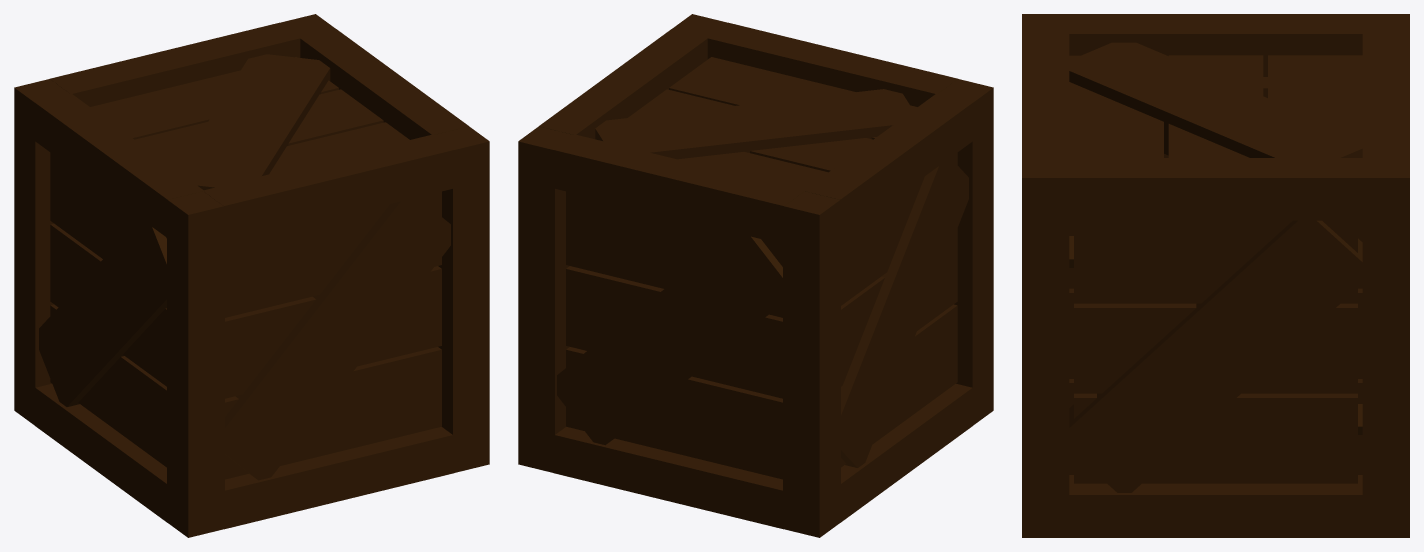
Rendered from wood_box.FBX.
The picture shows the model from 3 angles, left to right: view 1: azimuth 30°, elevation 25°; view 2: azimuth 150°, elevation 25°; view 3: azimuth 270°, elevation 25°; orthographic projection. The views are drawn at different scales.
Parts seen in each view (by area): view 1: Box008, Box041, Box042, Box051, Box024, Box035, Box052, Box044, Box007, Box005, Box046, Box049 (+10 smaller); view 2: Box032, Box044, Box043, Box024, Box049, Box035, Box050, Box029, Box041, Box030, Box046, Box031 (+10 smaller); view 3: Box009, Box048, Box043, Box042, Box035, Box047, Box015, Box013, Box016, Box046, Box036, Box051 (+5 smaller).
Boxes of the visible parts, x1=… form: Box008: x1=225, y1=197, x2=450, y2=480; Box041: x1=167, y1=191, x2=224, y2=537; Box042: x1=434, y1=126, x2=489, y2=472; Box051: x1=203, y1=134, x2=454, y2=244; Box024: x1=39, y1=219, x2=166, y2=406; Box035: x1=177, y1=54, x2=330, y2=190; Box052: x1=223, y1=427, x2=454, y2=529; Box044: x1=14, y1=79, x2=69, y2=425; Box007: x1=225, y1=347, x2=441, y2=479; Box005: x1=225, y1=191, x2=441, y2=317; Box046: x1=34, y1=93, x2=203, y2=237; Box049: x1=50, y1=22, x2=300, y2=106; Box032: x1=557, y1=232, x2=782, y2=445; Box044: x1=783, y1=191, x2=840, y2=537; Box043: x1=518, y1=126, x2=573, y2=472; Box024: x1=841, y1=158, x2=968, y2=467; Box049: x1=553, y1=134, x2=804, y2=244; Box035: x1=595, y1=89, x2=913, y2=159; Box050: x1=553, y1=427, x2=783, y2=529; Box029: x1=566, y1=347, x2=782, y2=479; Box041: x1=938, y1=79, x2=993, y2=425; Box030: x1=566, y1=191, x2=782, y2=317; Box046: x1=804, y1=94, x2=973, y2=237; Box031: x1=566, y1=266, x2=782, y2=398; Box009: x1=1069, y1=220, x2=1362, y2=492; Box048: x1=1067, y1=158, x2=1364, y2=220; Box043: x1=1362, y1=158, x2=1409, y2=537; Box042: x1=1022, y1=158, x2=1069, y2=537; Box035: x1=1069, y1=42, x2=1362, y2=157; Box047: x1=1067, y1=475, x2=1364, y2=537; Box015: x1=1074, y1=393, x2=1357, y2=483; Box013: x1=1074, y1=220, x2=1357, y2=303; Box016: x1=1074, y1=303, x2=1357, y2=393; Box046: x1=1067, y1=14, x2=1364, y2=76; Box036: x1=1268, y1=55, x2=1362, y2=137; Box051: x1=1022, y1=33, x2=1069, y2=158.
Size of the model in its own units: 32.28 by 33.07 by 32.28.
